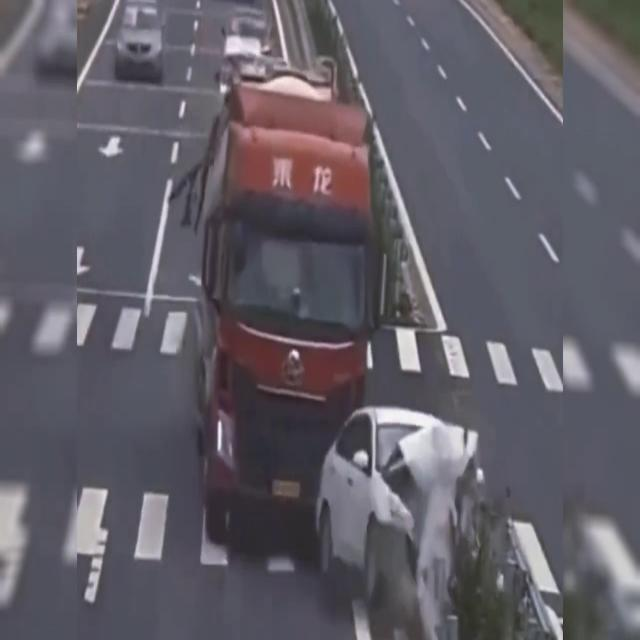accident: (190, 83, 492, 612)
